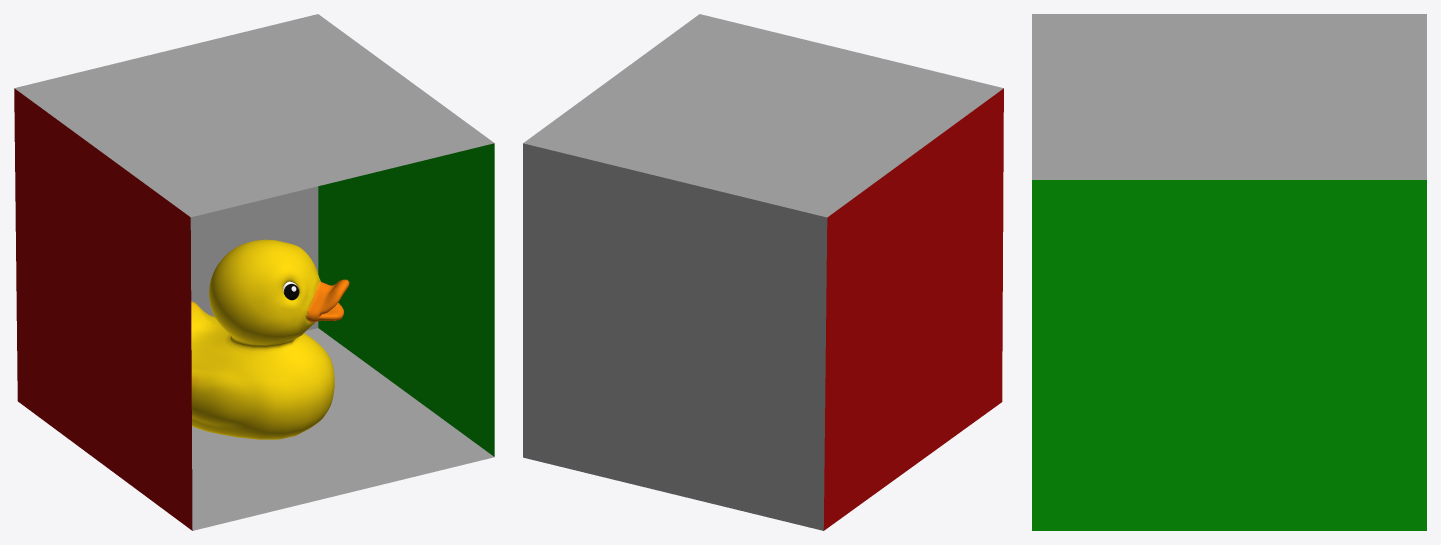
The model's file is cornell_duck.glb.
The picture shows the model from 3 angles, left to right: view 1: azimuth 30°, elevation 25°; view 2: azimuth 150°, elevation 25°; view 3: azimuth 270°, elevation 25°; orthographic projection. The views are drawn at different scales.
Parts seen in each view (by area): view 1: cbox, cbox_red, cbox_green, LOD3spShape; view 2: cbox, cbox_red; view 3: cbox_green, cbox.
Boxes of the visible parts, x1=… form: cbox: x1=14, y1=14, x2=494, y2=530; cbox_red: x1=14, y1=88, x2=192, y2=530; cbox_green: x1=318, y1=143, x2=494, y2=456; LOD3spShape: x1=191, y1=239, x2=349, y2=439; cbox: x1=523, y1=14, x2=1003, y2=530; cbox_red: x1=823, y1=88, x2=1003, y2=530; cbox_green: x1=1032, y1=180, x2=1426, y2=530; cbox: x1=1032, y1=14, x2=1426, y2=179.
Bounding box in the file's own units: 556 × 555 × 559.
Materials: 5 (1 with a texture image).
